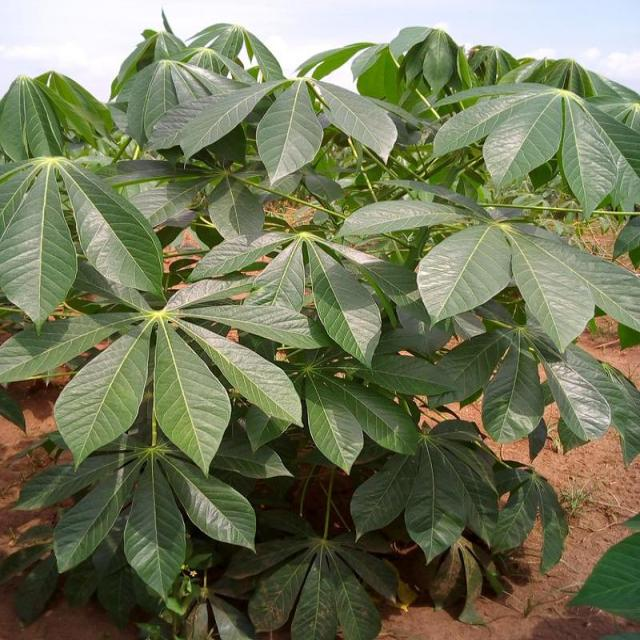cassava leaf: (1, 14, 638, 631), (255, 78, 323, 189)
